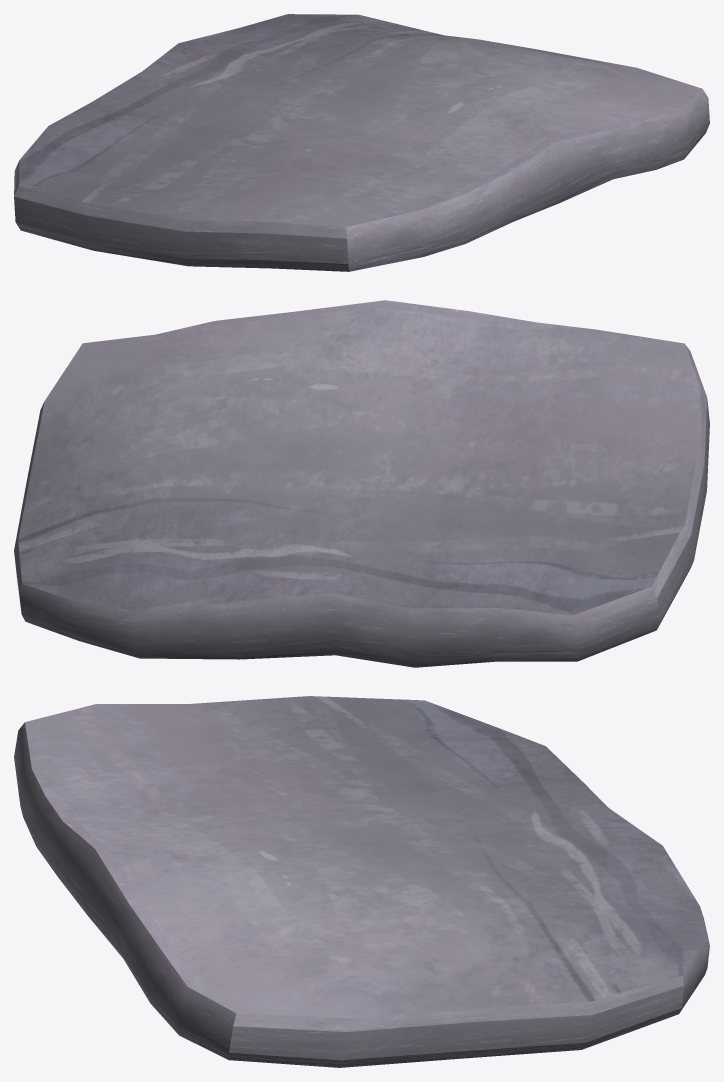
The model's file is flat_rock_1_002.fbx.
3 views of the same model, one above another, from view 1: azimuth 30°, elevation 25°; view 2: azimuth 150°, elevation 25°; view 3: azimuth 270°, elevation 25° (orthographic). The views are drawn at different scales.
Parts seen in each view (by area): view 1: flat rock 1.002; view 2: flat rock 1.002; view 3: flat rock 1.002.
Part boxes in pixels (box(x1,y1,x2,y2)): flat rock 1.002: box(14, 14, 709, 271); flat rock 1.002: box(14, 300, 709, 667); flat rock 1.002: box(14, 696, 709, 1067).
Bounding box in the file's own units: 2455 × 483 × 2171.
